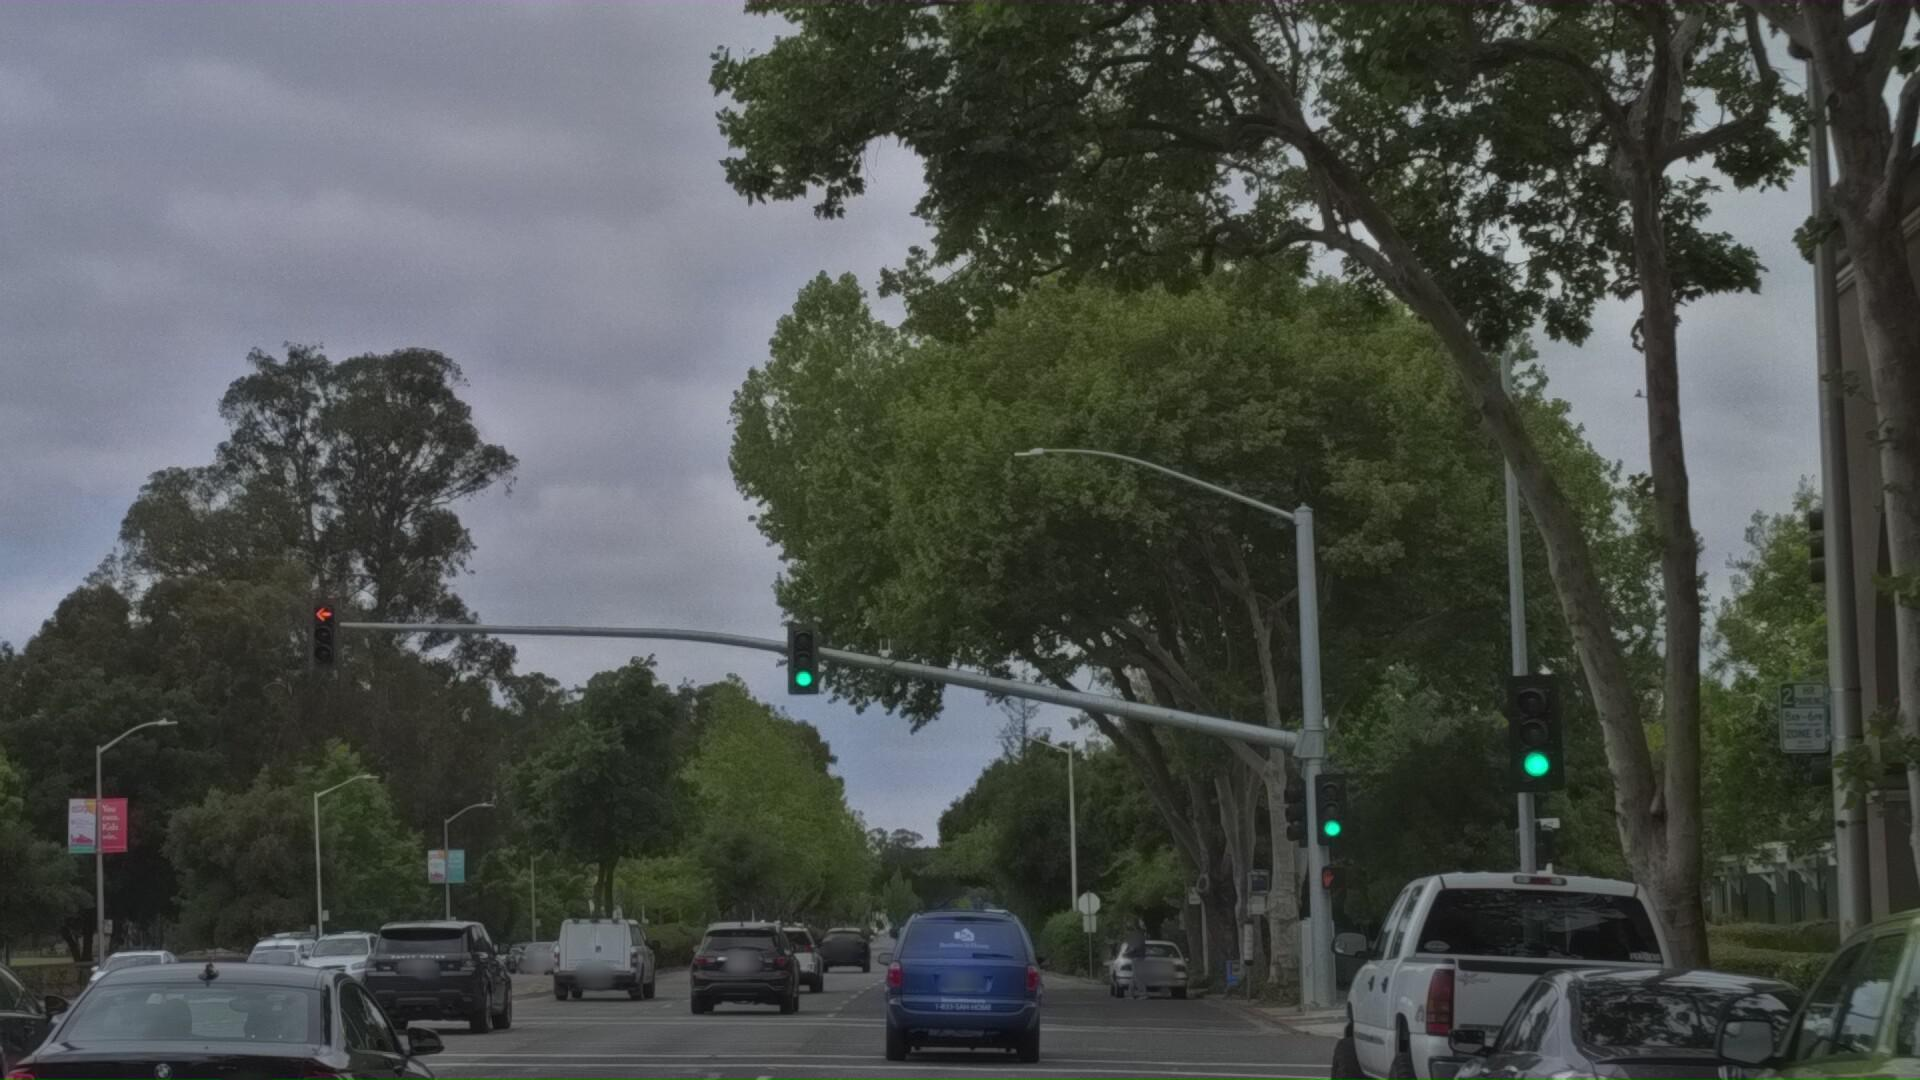car: (1321, 870, 1789, 1080), (0, 959, 487, 1080), (1432, 967, 1920, 1080), (1687, 873, 1920, 1080), (876, 923, 1063, 1080), (363, 955, 539, 1080), (0, 934, 131, 1080), (690, 956, 819, 1071), (542, 953, 654, 1054)
